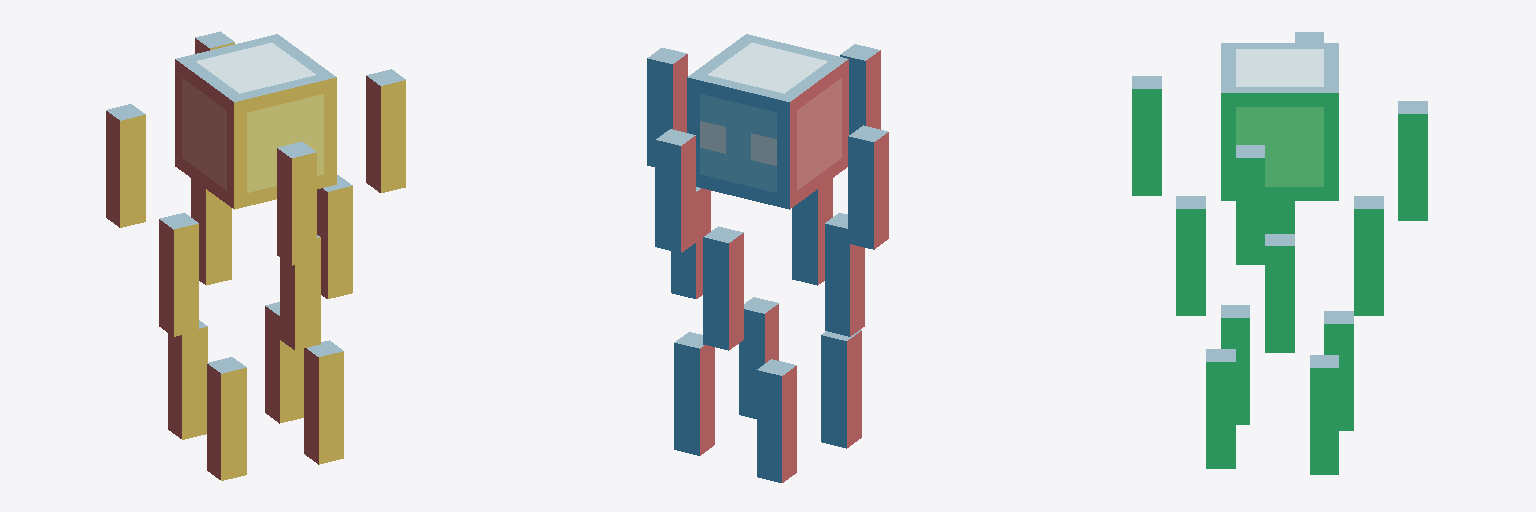
3 renders of one model, left to right at view 1: azimuth 30°, elevation 25°; view 2: azimuth 150°, elevation 25°; view 3: azimuth 270°, elevation 25°, orthographic.
Parts seen in each view (by area): view 1: Head, upperBodyParts4, upperBodyParts8, upperBodyParts0, upperBodyParts2, upperBodyParts1, upperBodyParts10, upperBodyParts11, upperBodyParts5, upperBodyParts6, upperBodyParts9, upperBodyParts7 (+1 smaller); view 2: Head, upperBodyParts0, upperBodyParts3, upperBodyParts7, upperBodyParts11, upperBodyParts9, upperBodyParts8, upperBodyParts4, upperBodyParts1, upperBodyParts10, upperBodyParts6, upperBodyParts2 (+1 smaller); view 3: Head, upperBodyParts2, upperBodyParts3, upperBodyParts6, upperBodyParts7, upperBodyParts10, upperBodyParts5, upperBodyParts1, upperBodyParts9, upperBodyParts11, upperBodyParts8, upperBodyParts4.
Part boxes in pixels (bbox=[...]): Head: bbox=[175, 34, 336, 209]; upperBodyParts4: bbox=[159, 213, 198, 336]; upperBodyParts8: bbox=[207, 357, 246, 480]; upperBodyParts0: bbox=[106, 104, 145, 227]; upperBodyParts2: bbox=[277, 142, 316, 265]; upperBodyParts1: bbox=[366, 69, 405, 192]; upperBodyParts10: bbox=[304, 340, 343, 464]; upperBodyParts11: bbox=[168, 320, 207, 439]; upperBodyParts5: bbox=[317, 175, 352, 298]; upperBodyParts6: bbox=[280, 235, 320, 350]; upperBodyParts9: bbox=[265, 302, 303, 423]; upperBodyParts7: bbox=[191, 178, 231, 285]; Head: bbox=[687, 34, 848, 209]; upperBodyParts0: bbox=[848, 125, 888, 249]; upperBodyParts3: bbox=[655, 129, 695, 252]; upperBodyParts7: bbox=[703, 226, 743, 350]; upperBodyParts11: bbox=[757, 359, 796, 482]; upperBodyParts9: bbox=[674, 332, 714, 455]; upperBodyParts8: bbox=[821, 330, 861, 448]; upperBodyParts4: bbox=[825, 213, 864, 336]; upperBodyParts1: bbox=[647, 48, 687, 166]; upperBodyParts10: bbox=[739, 297, 778, 418]; upperBodyParts6: bbox=[792, 178, 832, 285]; upperBodyParts2: bbox=[840, 44, 880, 134]; Head: bbox=[1221, 43, 1338, 200]; upperBodyParts2: bbox=[1132, 76, 1161, 195]; upperBodyParts3: bbox=[1398, 101, 1427, 220]; upperBodyParts6: bbox=[1176, 196, 1205, 315]; upperBodyParts7: bbox=[1354, 196, 1383, 315]; upperBodyParts10: bbox=[1206, 349, 1235, 468]; upperBodyParts5: bbox=[1265, 234, 1294, 352]; upperBodyParts1: bbox=[1236, 145, 1264, 264]; upperBodyParts9: bbox=[1310, 355, 1338, 474]; upperBodyParts11: bbox=[1324, 311, 1353, 430]; upperBodyParts8: bbox=[1221, 305, 1249, 424]; upperBodyParts4: bbox=[1265, 201, 1294, 233].
Size of the model in its own units: 1.25 by 1.75 by 1.25.
Materials: 1 (1 with a texture image).